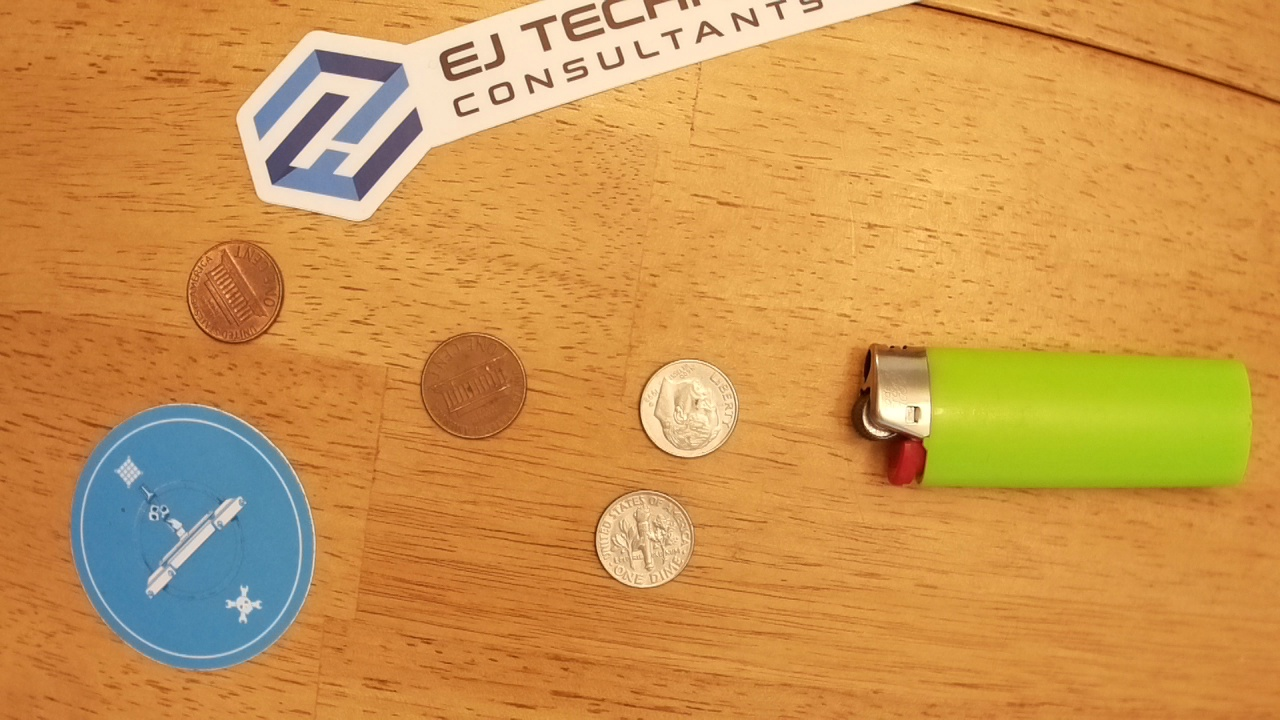dime: (635, 354, 741, 462), (593, 484, 695, 592)
penny: (416, 330, 530, 444), (184, 234, 288, 348)
